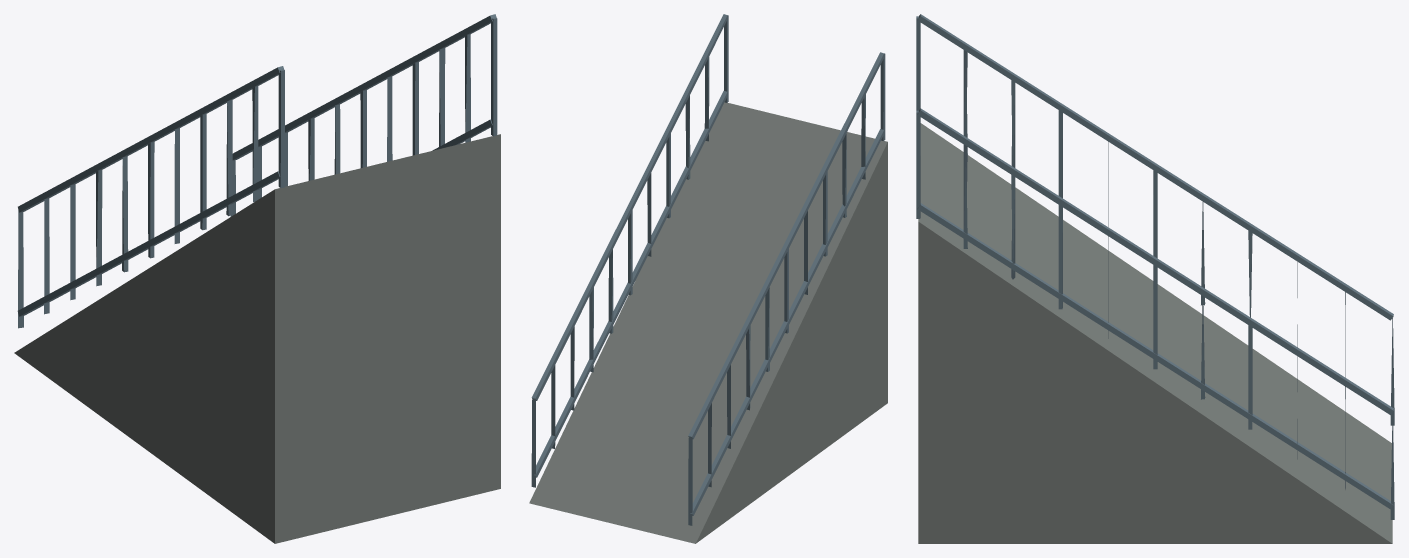
Rendered from architecture-ramp.lod2.glb.
3 renders of one model, left to right at view 1: azimuth 30°, elevation 25°; view 2: azimuth 150°, elevation 25°; view 3: azimuth 270°, elevation 25°, orthographic. The views are drawn at different scales.
Visible parts, largest first — view 1: architecture-ramp__body; view 2: architecture-ramp__body; view 3: architecture-ramp__body.
Part boxes in pixels (bbox=[...]): architecture-ramp__body: bbox=[14, 14, 500, 543]; architecture-ramp__body: bbox=[529, 14, 887, 543]; architecture-ramp__body: bbox=[916, 14, 1394, 543].
Size of the model in its own units: 2 by 4.02 by 4.04.
